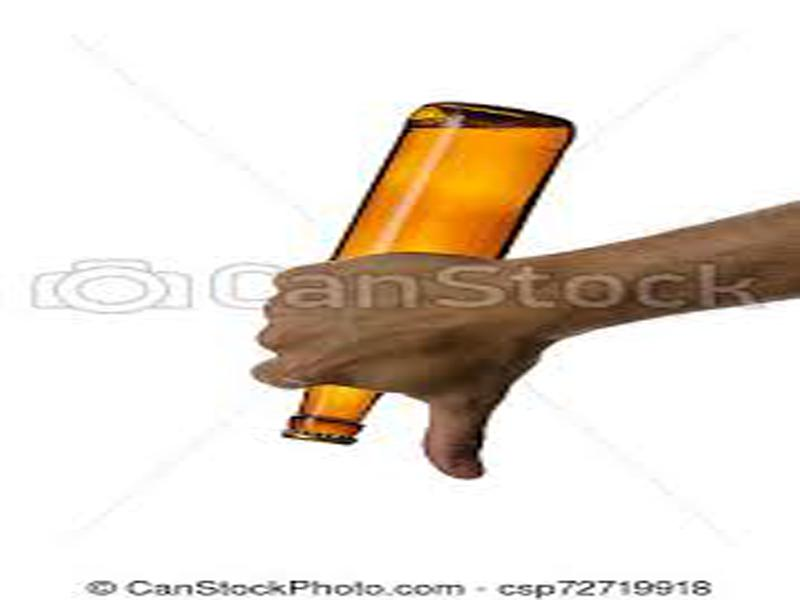Beer: (286, 102, 577, 442)
